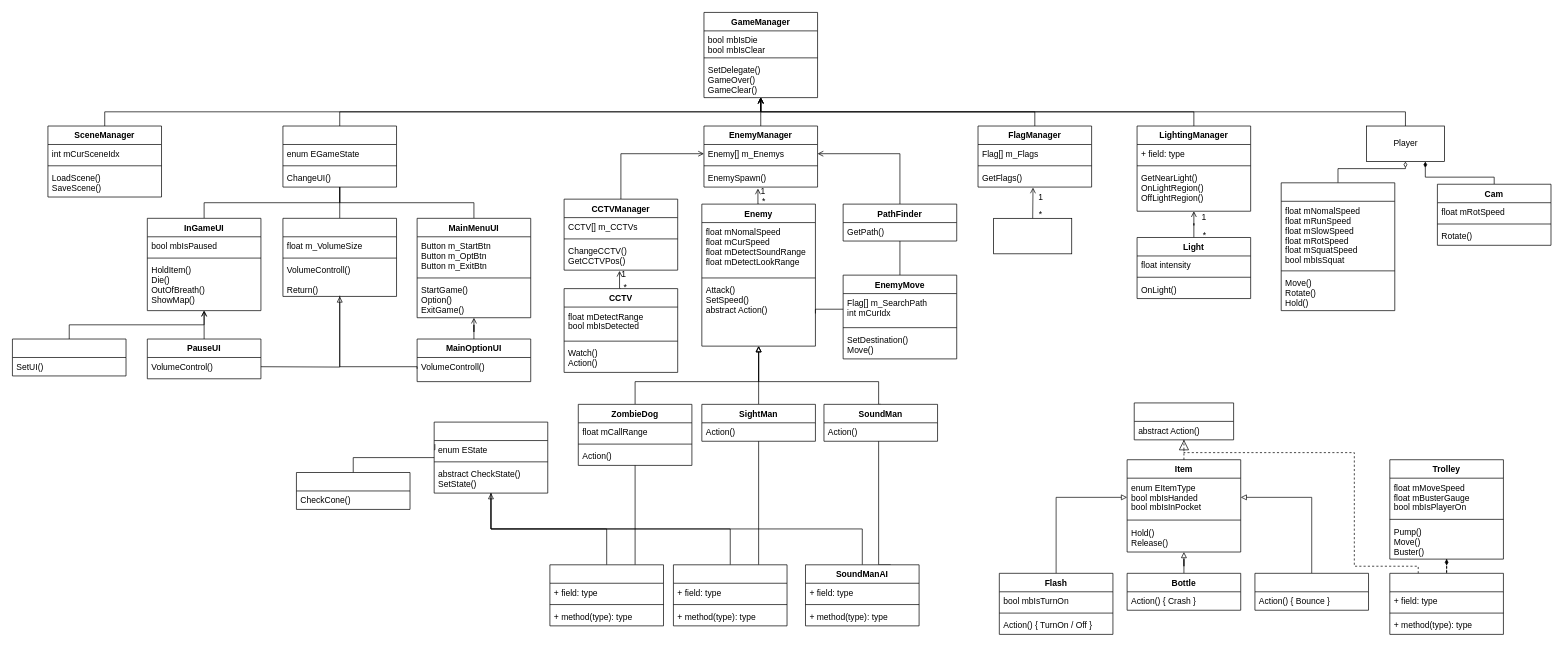
Image size: 1563x649. Some labels were removed from this diagram. Here are the shapes that lost their labels. From the top down, the box of each, then its label:
(282, 125, 397, 187): UIManager
(993, 218, 1072, 254): Flag
(1280, 182, 1395, 311): PlayerCtrl
(282, 218, 397, 296): OptionUI
(12, 338, 126, 376): StoryUI
(1134, 402, 1234, 440): ICatch
(433, 421, 548, 493): EnemyAI
(296, 472, 410, 509): EnemyFOV
(549, 564, 663, 626): ZombieDogAI
(673, 564, 787, 626): SightManAI
(1254, 573, 1369, 610): Can
(1389, 573, 1503, 634): Handle
